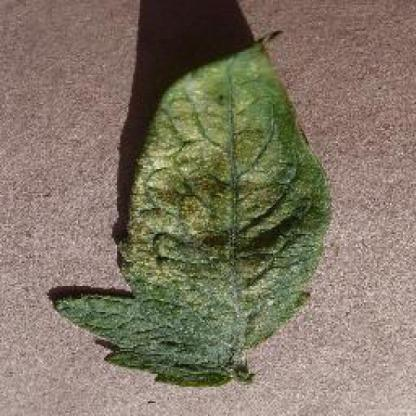Tomato_Spider_Mites: (54, 31, 330, 384)
